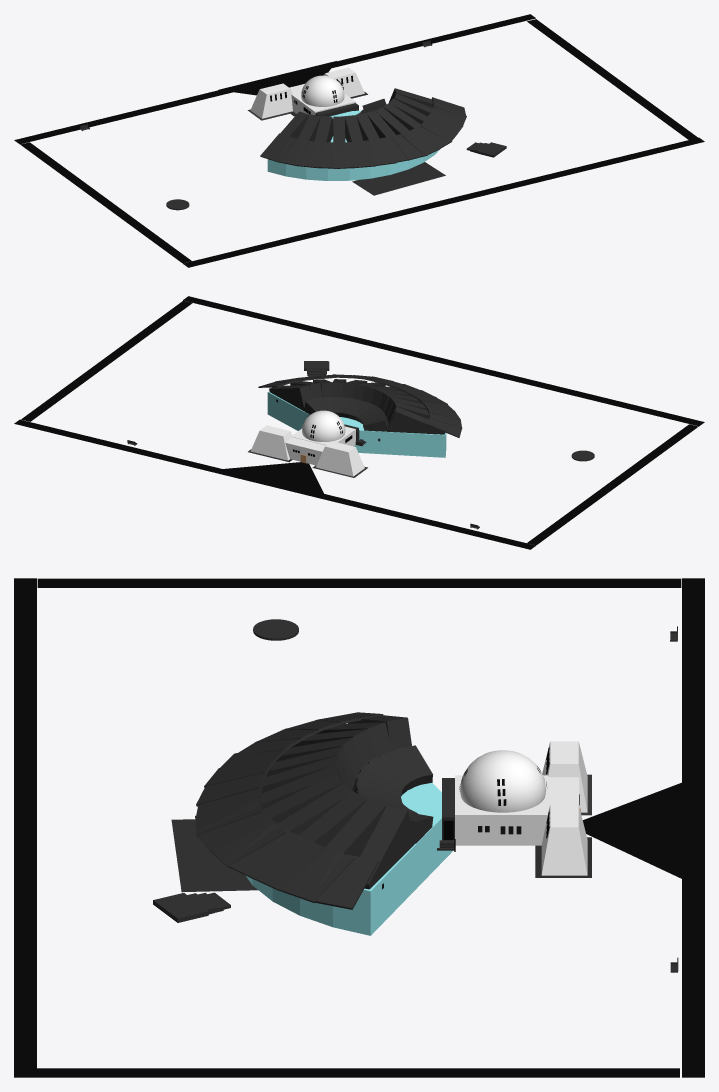
Rendered from asmundarsafn_cpy_to_test_7.obj.
3 views of the same model, one above another, from view 1: azimuth 30°, elevation 25°; view 2: azimuth 150°, elevation 25°; view 3: azimuth 270°, elevation 25° (orthographic). The views are drawn at different scales.
Visible parts, largest first — view 1: Plane.028, Plane.027, syningarsalur, Plane.030, Plane.029, Plane.035, pavement, Sphere, h_hlid, Cube.049, v_hlid, innanhus (+12 smaller); view 2: Plane.028, syningarsalur, Plane.027, pavement, Plane.030, Plane.029, Cube.033, h_hlid, Sphere, v_hlid, Cube.031, adaldyr (+5 smaller); view 3: Plane.028, Plane.027, pavement, syningarsalur, Plane.030, Plane.029, Sphere, innanhus, Plane.035, v_hlid, Cube.031, Cube.047 (+23 smaller).
Boxes of the visible parts, bbox=[...] form: Plane.028: bbox=[183, 137, 704, 267]; Plane.027: bbox=[14, 14, 535, 144]; syningarsalur: bbox=[267, 110, 439, 180]; Plane.030: bbox=[20, 142, 191, 263]; Plane.029: bbox=[527, 19, 697, 139]; Plane.035: bbox=[352, 162, 445, 195]; pavement: bbox=[218, 61, 336, 95]; Sphere: bbox=[301, 75, 344, 106]; h_hlid: bbox=[250, 83, 292, 118]; Cube.049: bbox=[346, 140, 375, 168]; v_hlid: bbox=[324, 67, 364, 97]; innanhus: bbox=[291, 92, 355, 115]; Plane.028: bbox=[183, 296, 704, 426]; syningarsalur: bbox=[267, 391, 446, 457]; Plane.027: bbox=[14, 419, 535, 549]; pavement: bbox=[207, 462, 326, 499]; Plane.030: bbox=[527, 424, 698, 545]; Plane.029: bbox=[21, 300, 192, 421]; Cube.033: bbox=[363, 406, 445, 434]; h_hlid: bbox=[316, 441, 364, 476]; Sphere: bbox=[302, 410, 345, 441]; v_hlid: bbox=[250, 425, 292, 460]; Cube.031: bbox=[269, 385, 322, 414]; adaldyr: bbox=[285, 437, 325, 465]; Plane.028: bbox=[14, 578, 36, 1077]; Plane.027: bbox=[682, 578, 704, 1077]; pavement: bbox=[583, 774, 704, 889]; syningarsalur: bbox=[245, 783, 452, 935]; Plane.030: bbox=[37, 578, 681, 587]; Plane.029: bbox=[37, 1068, 679, 1077]; Sphere: bbox=[460, 750, 545, 812]; innanhus: bbox=[455, 775, 549, 845]; Plane.035: bbox=[171, 819, 257, 892]; v_hlid: bbox=[541, 804, 587, 875]; Cube.031: bbox=[360, 806, 433, 889]; Cube.047: bbox=[313, 852, 378, 909].
Bounding box in the file's own units: 103 × 9.3 × 60.12.
